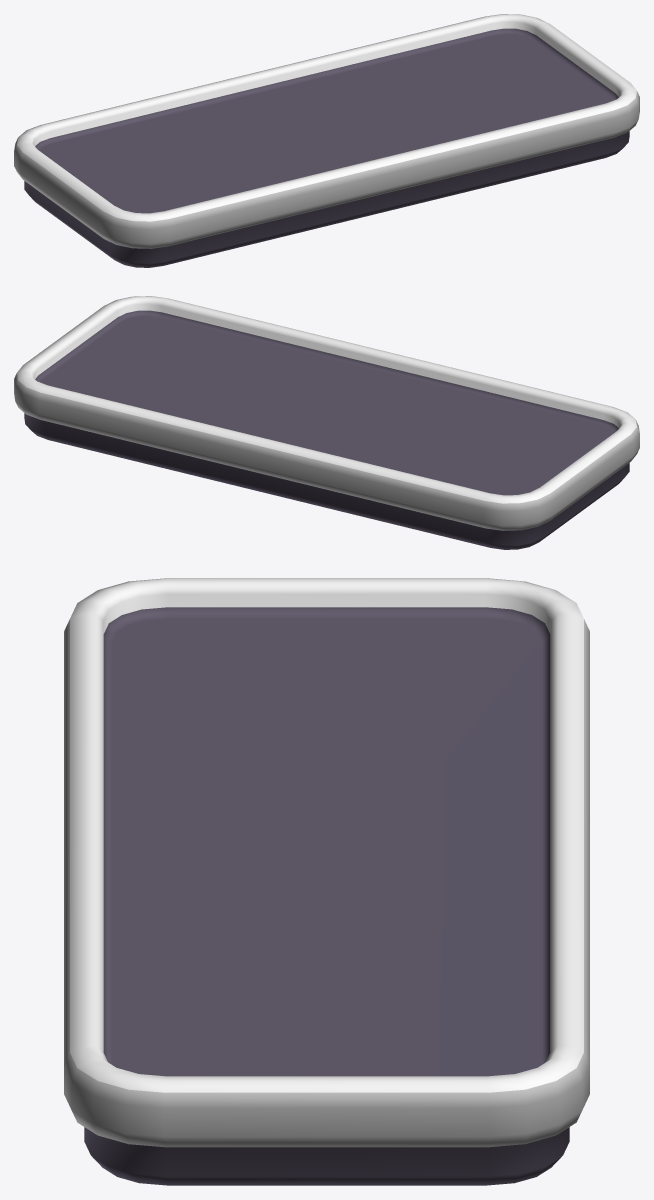
The model's file is table1.fbx.
3 views of the same model, one above another, from view 1: azimuth 30°, elevation 25°; view 2: azimuth 150°, elevation 25°; view 3: azimuth 270°, elevation 25° (orthographic). The views are drawn at different scales.
Parts seen in each view (by area): view 1: table1; view 2: table1; view 3: table1.
Boxes of the visible parts, left/top/right/bottom form: table1: left=14, top=14, right=639, bottom=267; table1: left=14, top=296, right=639, bottom=549; table1: left=64, top=578, right=589, bottom=1185.
Bounding box in the file's own units: 6.42 × 0.6636 × 2.75.
